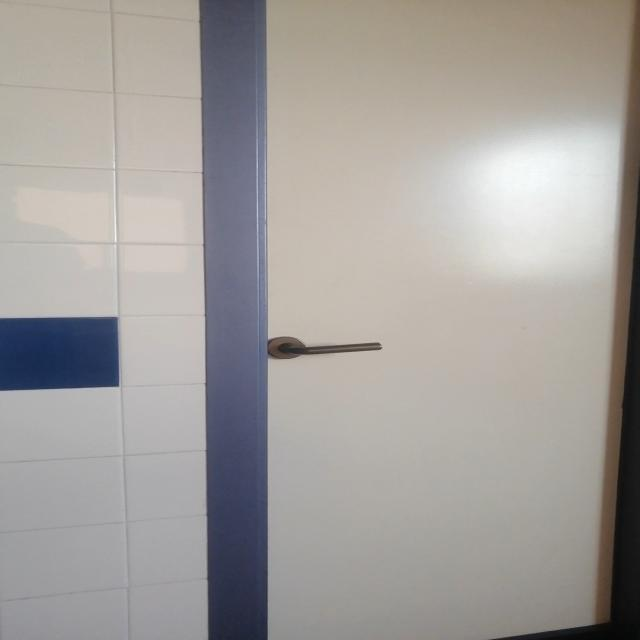door_handle: (275, 341, 385, 356)
